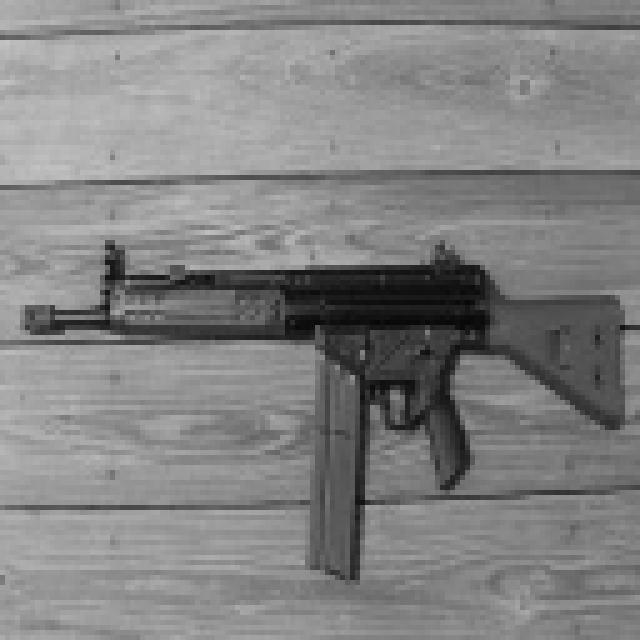Rifle: (8, 238, 640, 612)
